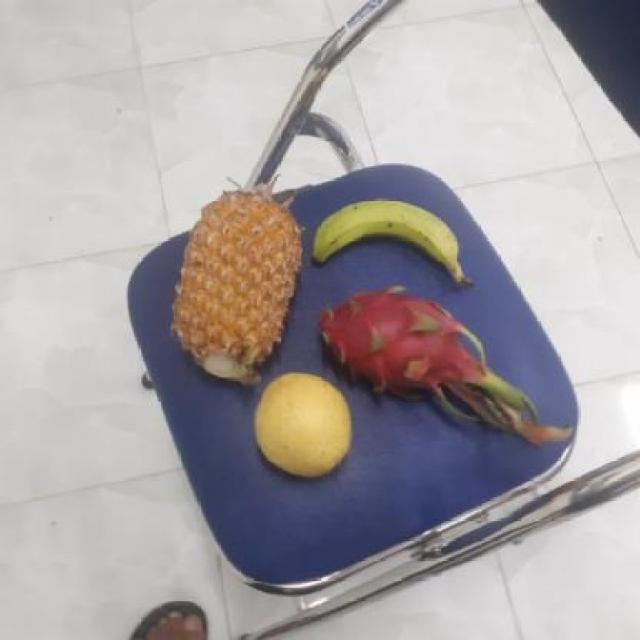banana: (310, 199, 462, 286)
dragon fruit: (308, 290, 486, 410)
pear: (248, 374, 358, 480)
pineapple: (170, 192, 302, 380)
